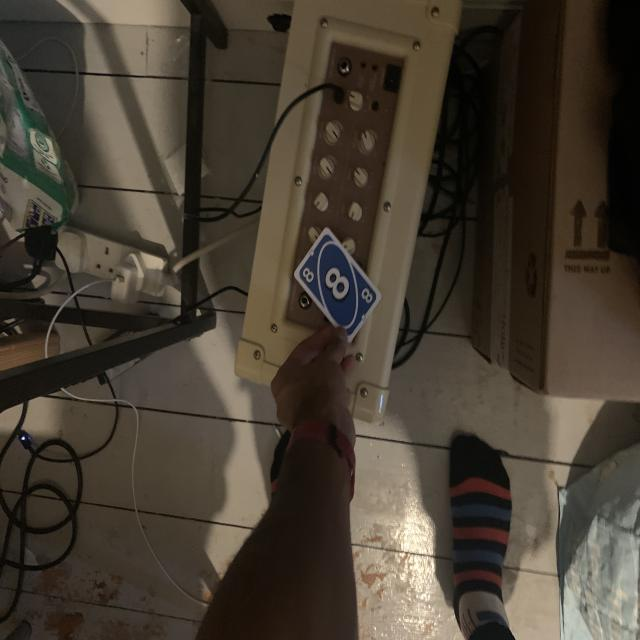lblue-8: (300, 265, 318, 287)
